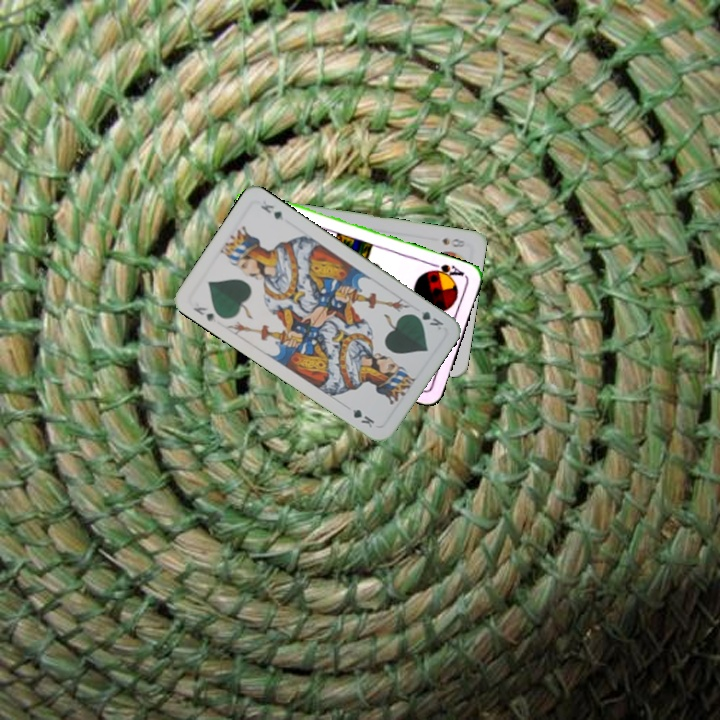GK: (408, 307, 446, 333), (189, 303, 219, 325)
S8: (438, 234, 468, 250)
SA: (426, 259, 467, 282)
